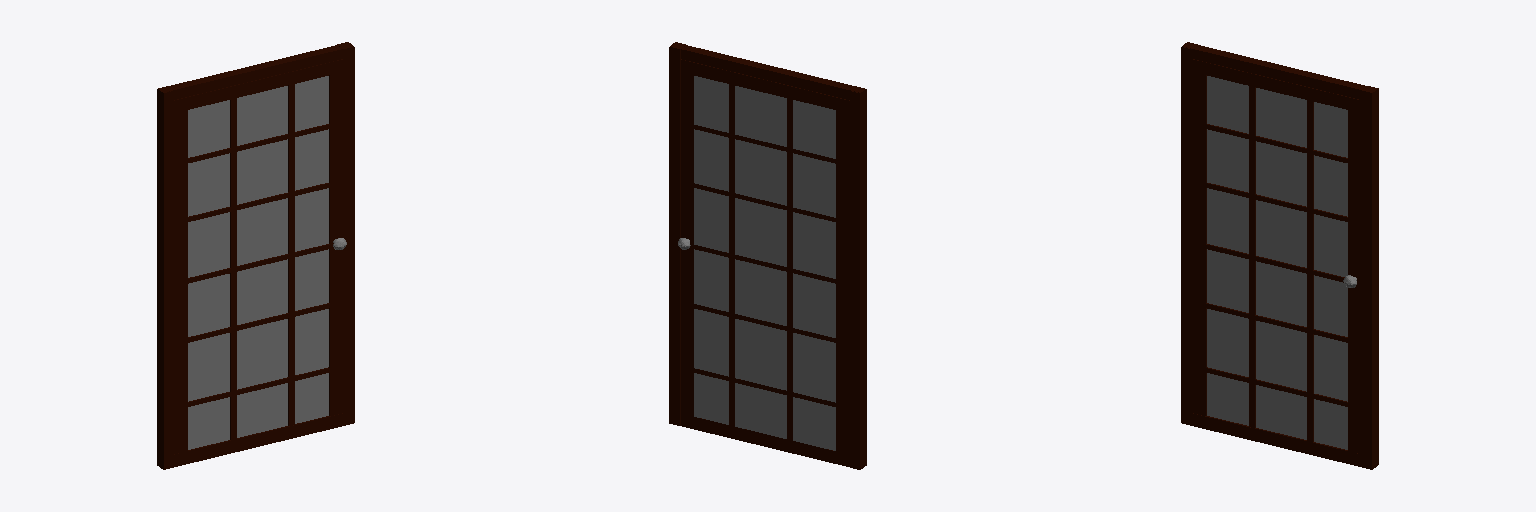
File: patioGlassDoor.obj
The picture shows the model from 3 angles: view 1: azimuth 30°, elevation 25°; view 2: azimuth 150°, elevation 25°; view 3: azimuth 330°, elevation 25°; orthographic projection.
Visible parts, largest first — view 1: sweethome3d_window_pane.001, Cube_11.001, left.001, right.001, Cube_11_1.001, Cube_12.001, Cube_4_1.001, Cube_4.001, bottom.001, top.001, Cube_5_4.001, Cube_5_3.001 (+3 smaller); view 2: sweethome3d_window_pane.001, Cube_11.001, left.001, Cube_11_1.001, right.001, Cube_12.001, top.001, bottom.001, Cube_4.001, Cube_4_1.001, Cube_5_3.001, Cube_5_4.001 (+3 smaller); view 3: sweethome3d_window_pane.001, Cube_11_1.001, left.001, right.001, Cube_11.001, Cube_12.001, Cube_4.001, Cube_4_1.001, bottom.001, top.001, Cube_5_4.001, Cube_5_3.001 (+3 smaller).
Boxes of the visible parts, x1,y1,x2,y2 form: sweethome3d_window_pane.001: [188, 76, 328, 449]; Cube_11.001: [157, 86, 173, 469]; left.001: [174, 110, 187, 453]; right.001: [329, 72, 342, 415]; Cube_11_1.001: [337, 42, 354, 425]; Cube_12.001: [158, 43, 350, 99]; Cube_4_1.001: [230, 98, 236, 440]; Cube_4.001: [288, 84, 294, 425]; bottom.001: [174, 413, 342, 466]; top.001: [174, 59, 342, 112]; Cube_5_4.001: [188, 367, 329, 406]; Cube_5_3.001: [188, 303, 329, 342]; sweethome3d_window_pane.001: [694, 76, 835, 450]; Cube_11.001: [850, 86, 866, 469]; left.001: [836, 110, 849, 454]; Cube_11_1.001: [669, 42, 685, 425]; right.001: [681, 72, 693, 416]; Cube_12.001: [673, 43, 865, 99]; top.001: [681, 59, 849, 112]; bottom.001: [681, 414, 849, 466]; Cube_4.001: [729, 84, 734, 426]; Cube_4_1.001: [787, 98, 792, 440]; Cube_5_3.001: [694, 304, 835, 342]; Cube_5_4.001: [694, 368, 835, 406]; sweethome3d_window_pane.001: [1207, 76, 1347, 449]; Cube_11_1.001: [1361, 86, 1378, 469]; left.001: [1192, 72, 1206, 415]; right.001: [1348, 110, 1360, 453]; Cube_11.001: [1181, 42, 1197, 425]; Cube_12.001: [1182, 42, 1377, 101]; Cube_4.001: [1307, 100, 1313, 442]; Cube_4_1.001: [1249, 86, 1255, 427]; bottom.001: [1192, 413, 1360, 466]; top.001: [1192, 59, 1360, 112]; Cube_5_4.001: [1206, 367, 1347, 406]; Cube_5_3.001: [1206, 303, 1347, 342].
Bounding box in the file's own units: 7.91 × 14.91 × 1.37.